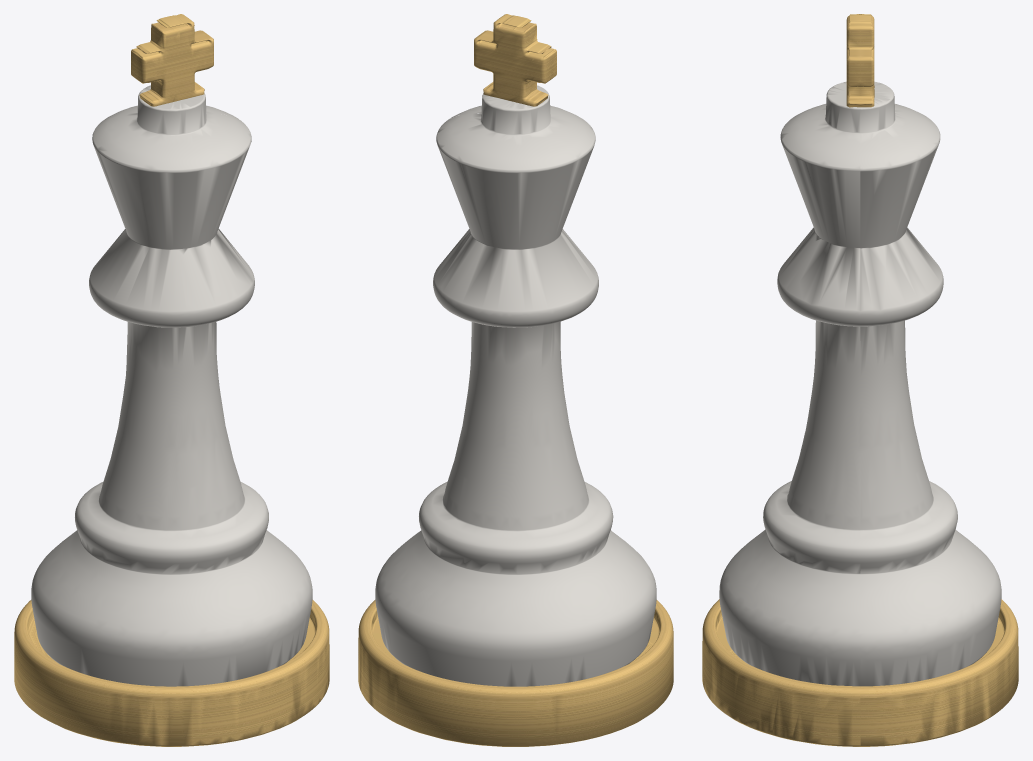
The model's file is king-white-hd.glb.
3 renders of one model, left to right at view 1: azimuth 30°, elevation 25°; view 2: azimuth 150°, elevation 25°; view 3: azimuth 270°, elevation 25°, orthographic.
Parts seen in each view (by area): view 1: Aurum Ivoire – King; view 2: Aurum Ivoire – King; view 3: Aurum Ivoire – King.
Boxes of the visible parts, <box> form: Aurum Ivoire – King: <box>14,14,329,746</box>; Aurum Ivoire – King: <box>358,14,673,746</box>; Aurum Ivoire – King: <box>702,14,1018,746</box>.
Bounding box in the file's own units: 0.7141 × 1.65 × 0.7139.
Materials: 2 (1 with a texture image).
